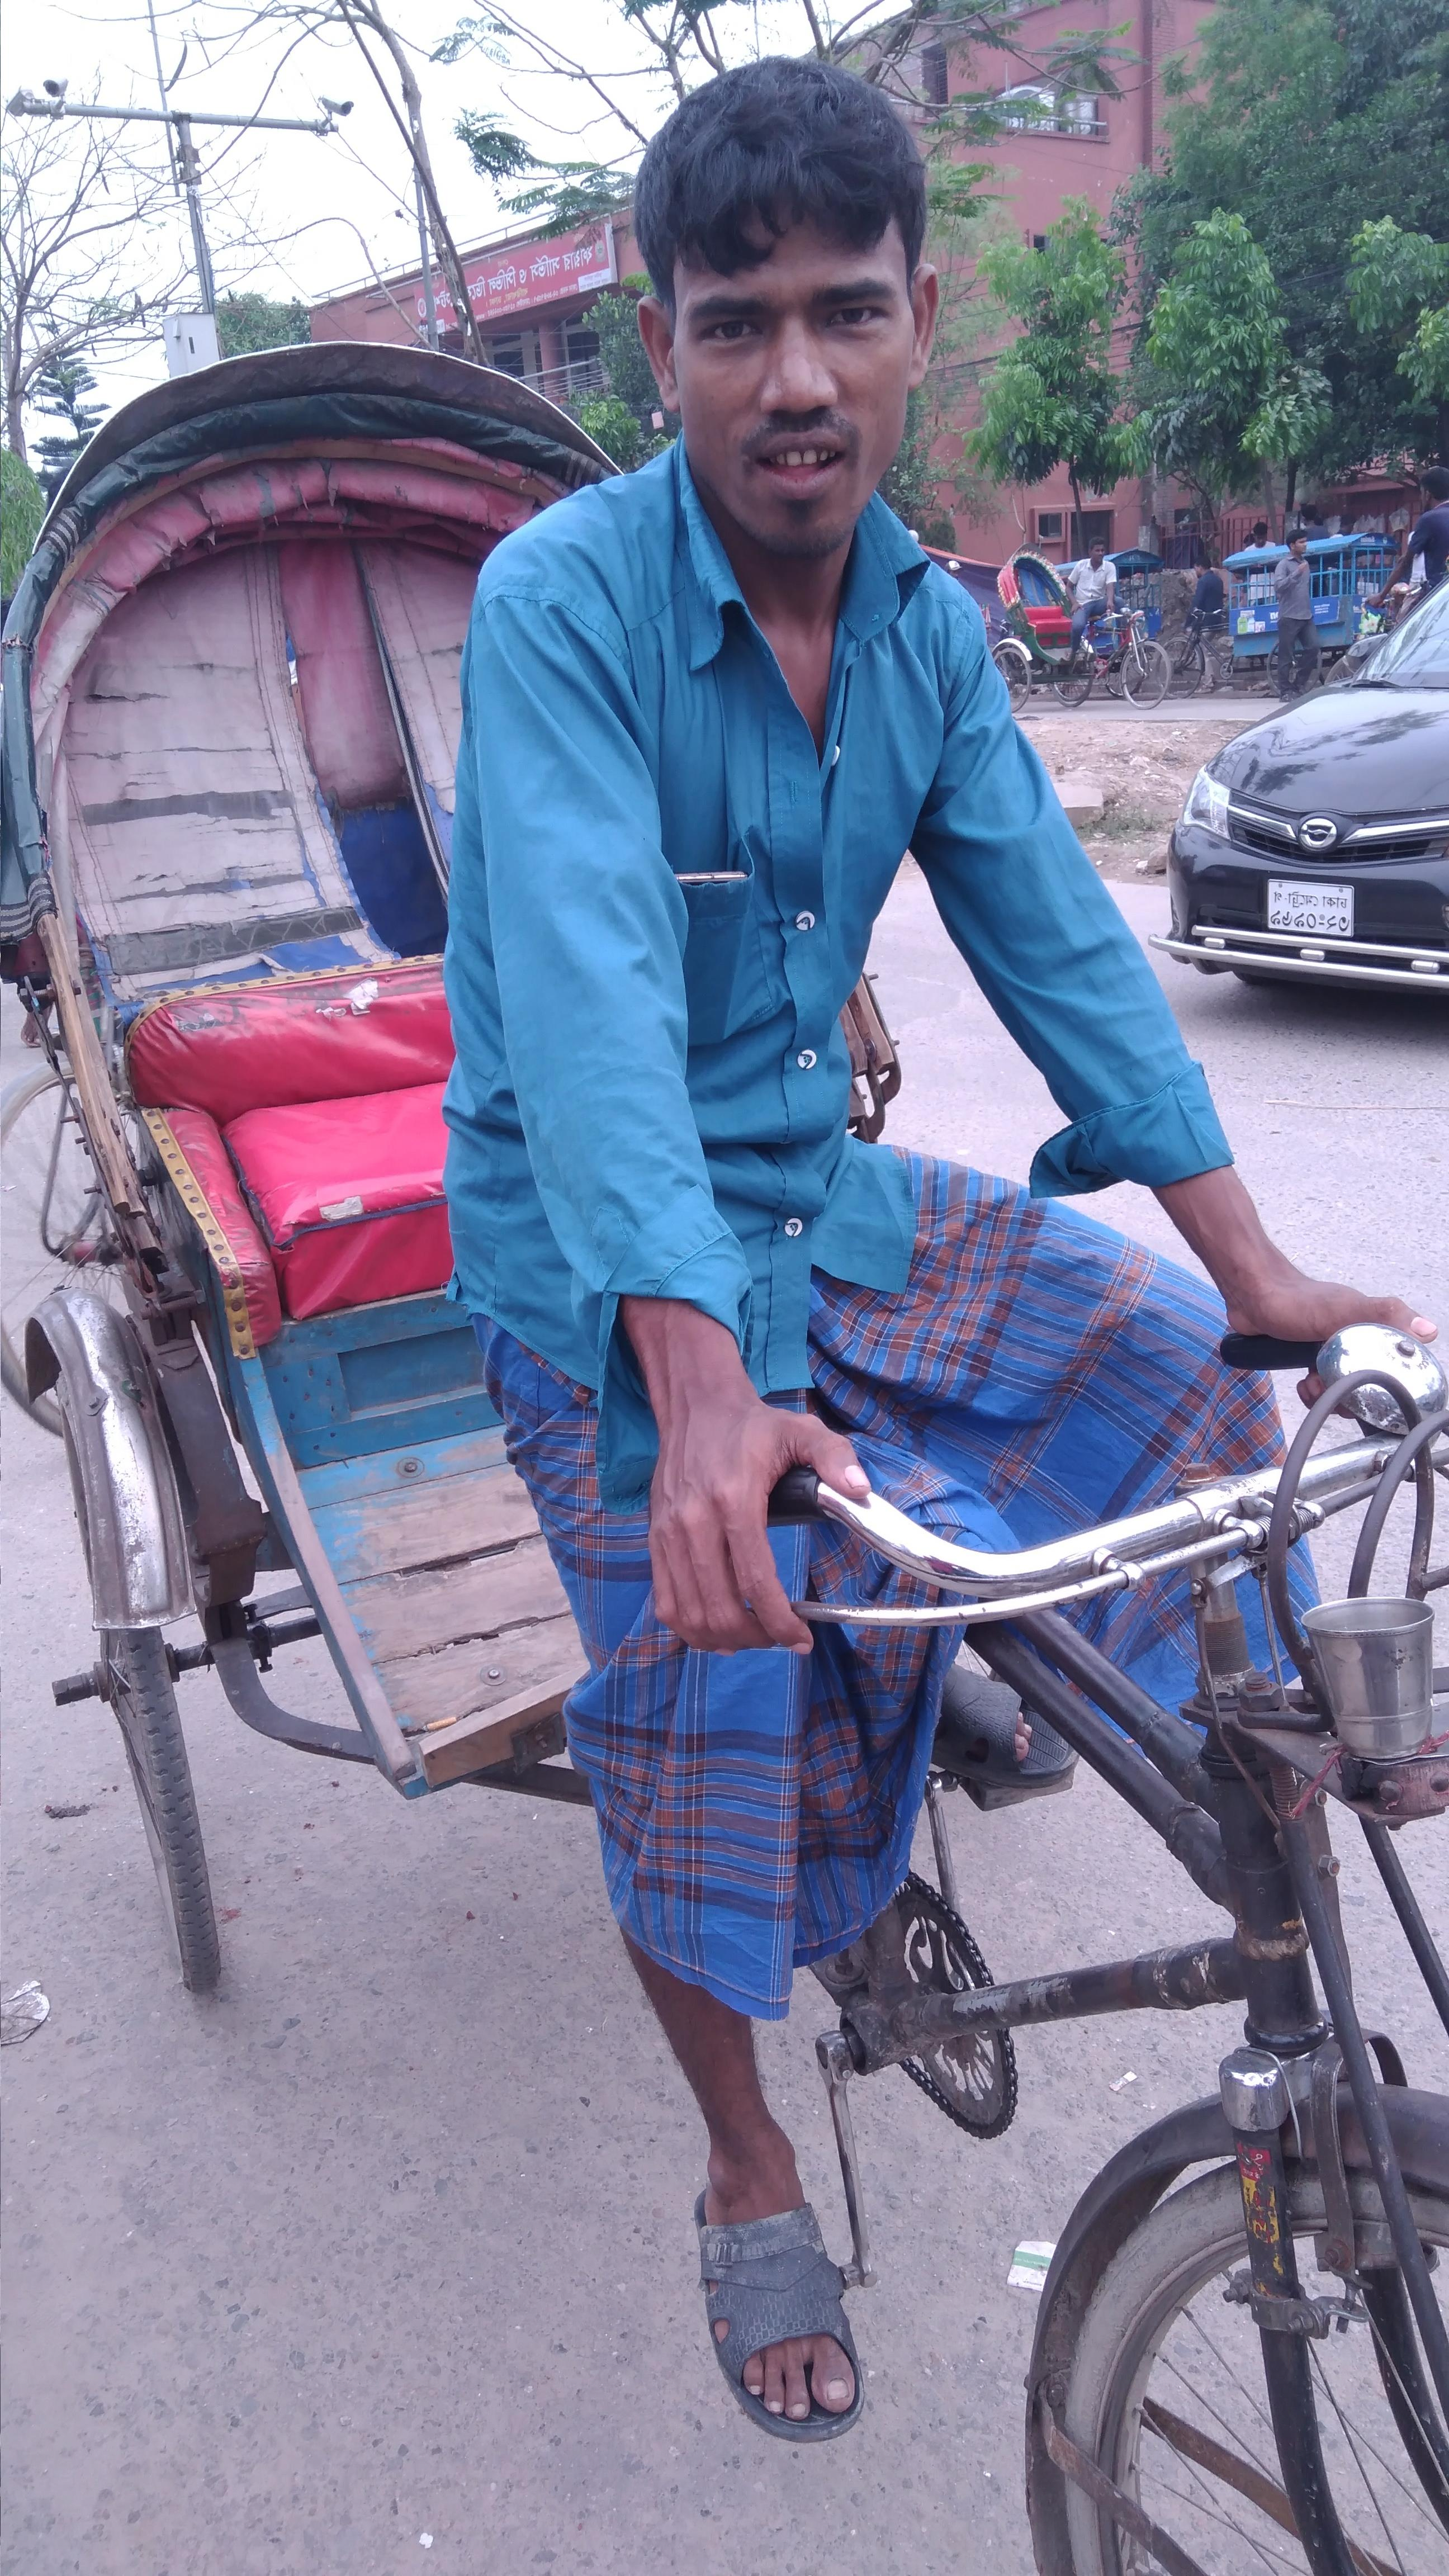Rickshaw: (7, 322, 1447, 2473)
